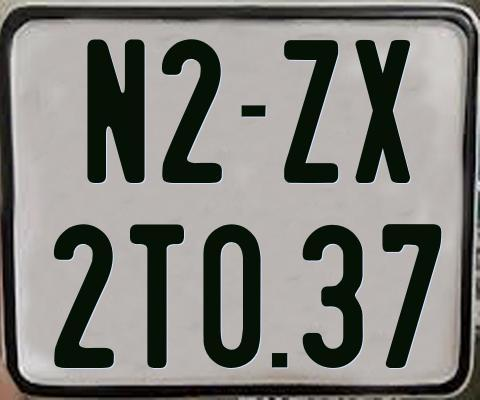0: (201, 224, 262, 368)
2: (54, 224, 114, 374), (160, 37, 221, 183)
3: (299, 225, 360, 369)
7: (382, 223, 443, 370)
N: (84, 39, 148, 185)
T: (127, 224, 181, 371)
X: (354, 38, 411, 186)
Z: (281, 38, 335, 183)
